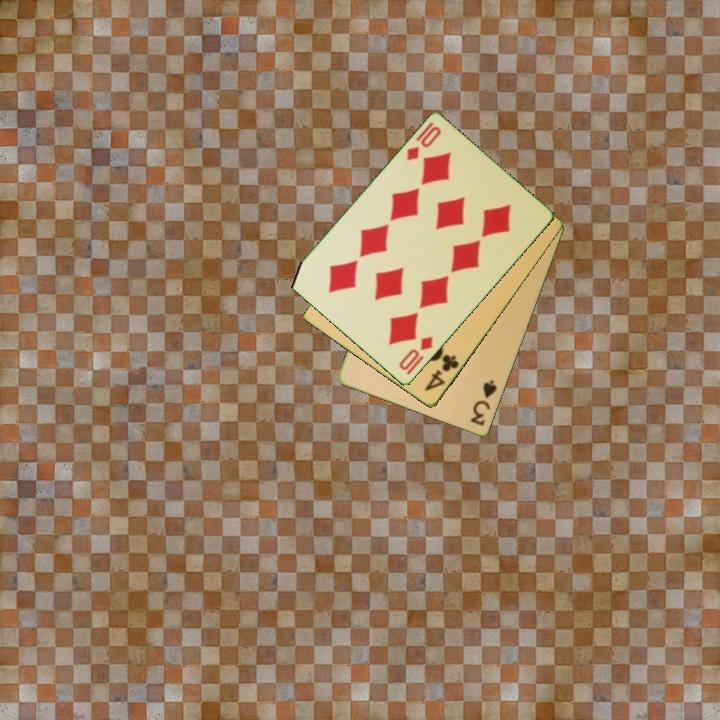10d: (395, 333, 436, 378), (403, 119, 444, 164)
3s: (467, 377, 500, 429)
4c: (421, 351, 462, 395)
